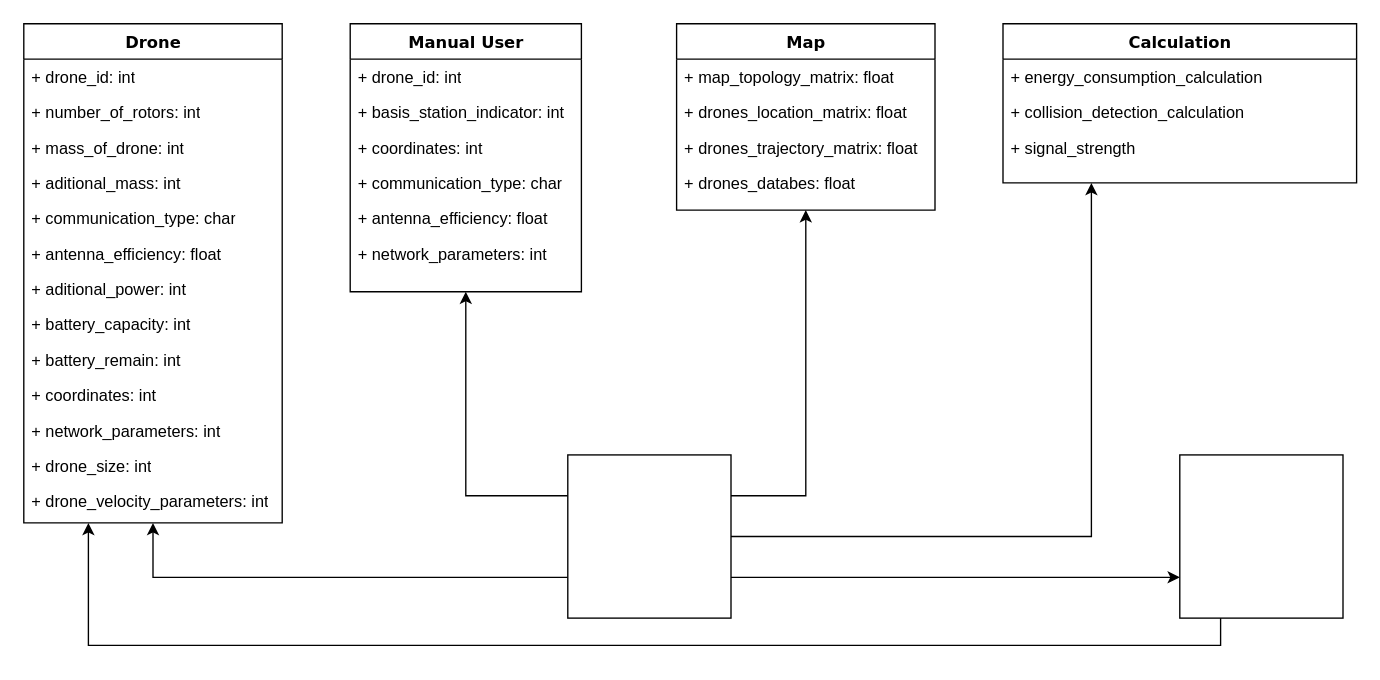
The diagram is 1380 pixels wide and 680 high, and some of its shapes have lost their labels. Here are the shapes that lost their labels. From the top down, the centre of each, then its label:
At pixel 648 536: "Simulation control block".
At pixel 1260 536: "Logger".
